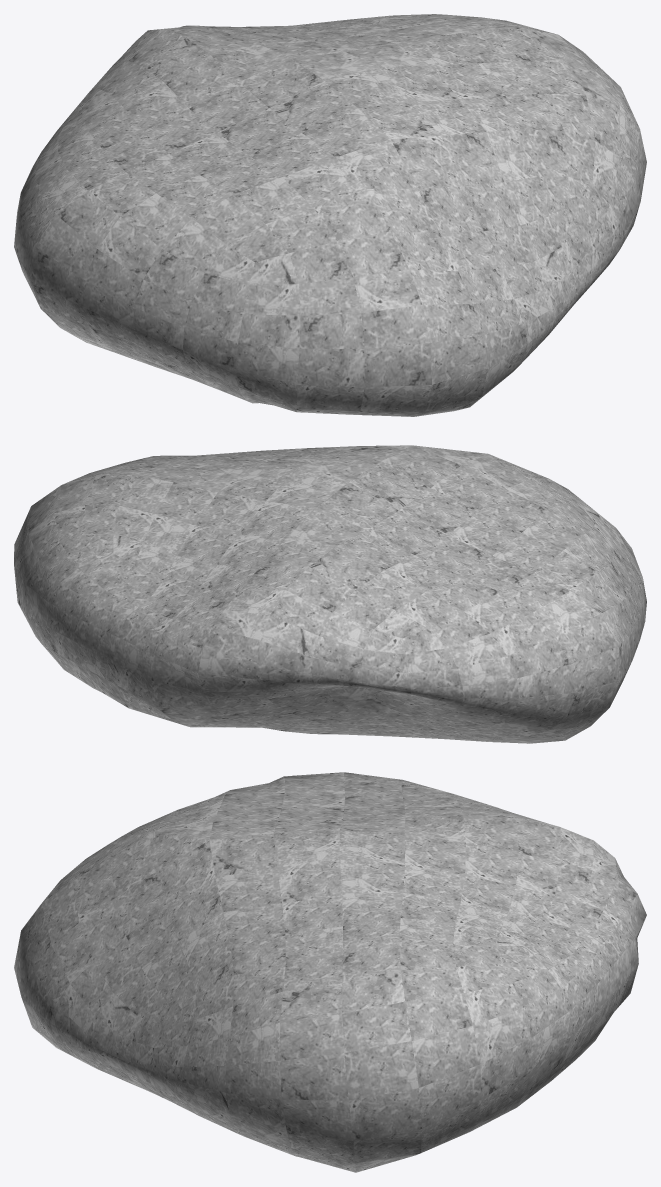
The model's file is rockvar2.fbx.
The picture shows the model from 3 angles, top to bottom: view 1: azimuth 30°, elevation 25°; view 2: azimuth 150°, elevation 25°; view 3: azimuth 270°, elevation 25°; orthographic projection. The views are drawn at different scales.
Visible parts, largest first — view 1: Rockvar2; view 2: Rockvar2; view 3: Rockvar2.
Part boxes in pixels (x1,y1,x2,y2): Rockvar2: (14, 14, 646, 416); Rockvar2: (14, 445, 646, 743); Rockvar2: (14, 772, 646, 1172).
Size of the model in its own units: 194 by 84.44 by 179.
